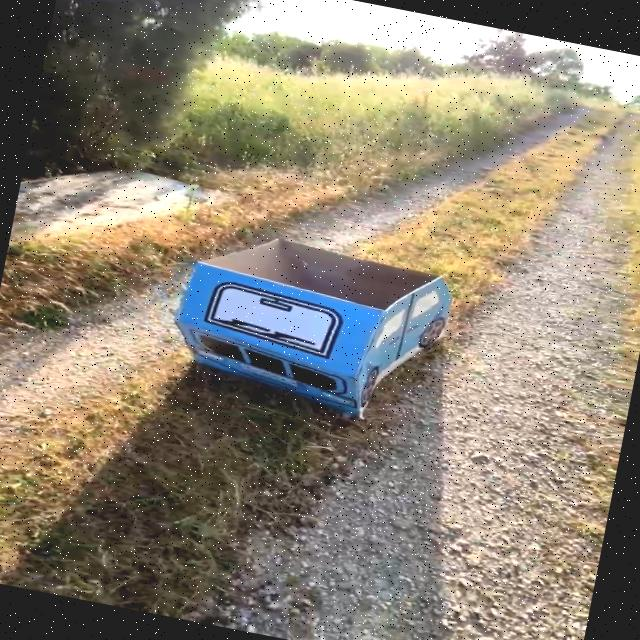blue_car: (91, 171, 535, 502)
